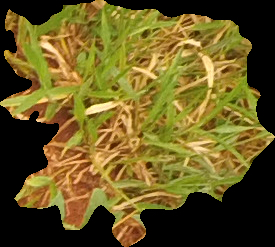grass: (1, 1, 274, 246)
